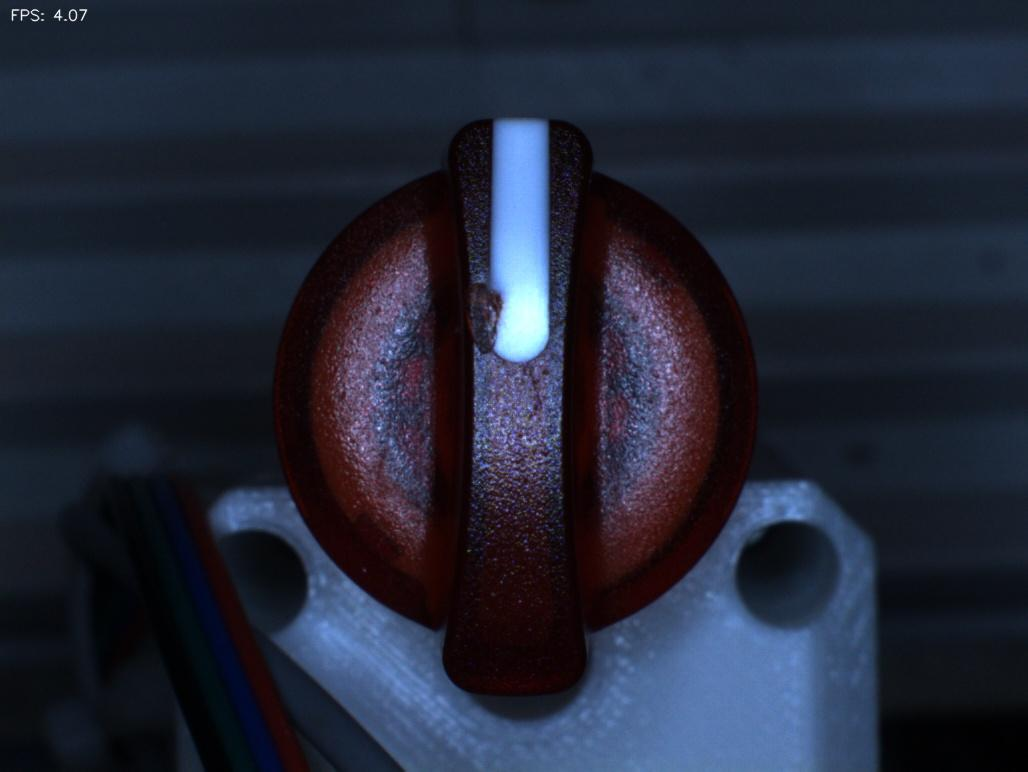Choc: (431, 260, 523, 372)
